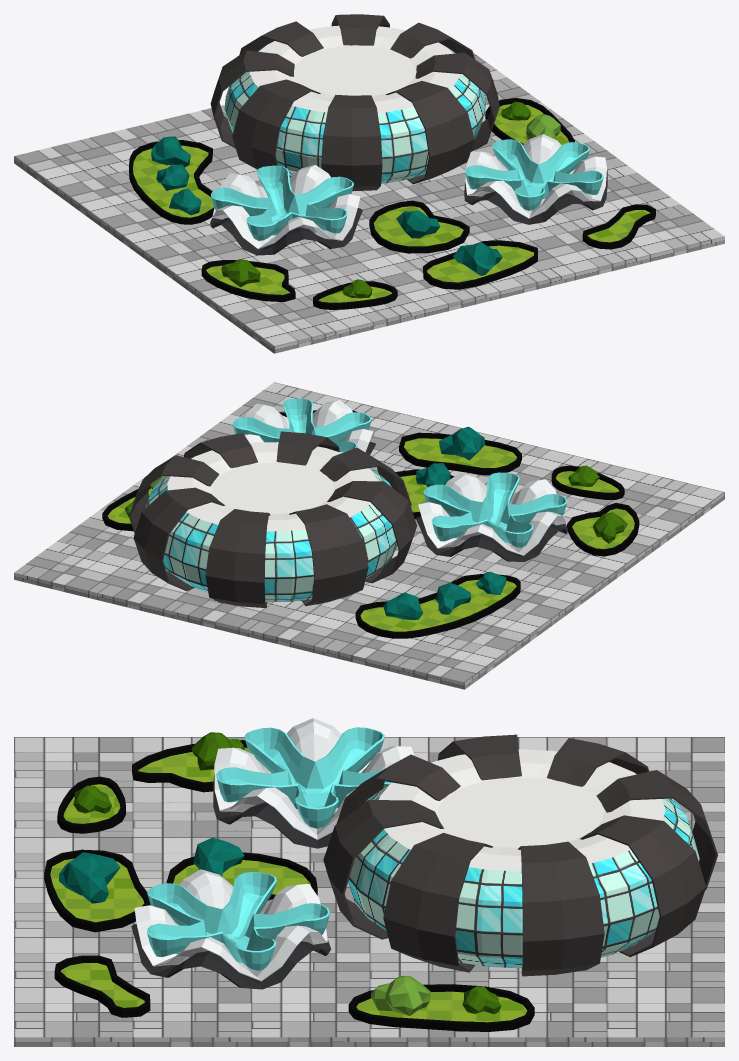
File: D9_Icon_Building.fbx
The picture shows the model from 3 angles, top to bottom: view 1: azimuth 30°, elevation 25°; view 2: azimuth 150°, elevation 25°; view 3: azimuth 270°, elevation 25°; orthographic projection. The views are drawn at different scales.
Visible parts, largest first — view 1: Cube.019; view 2: Cube.019; view 3: Cube.019.
Boxes of the visible parts, <box> form: Cube.019: <box>14,14,724,353</box>; Cube.019: <box>14,382,724,689</box>; Cube.019: <box>14,718,724,1046</box>.
Size of the model in its own units: 4000 by 777 by 4000.
6 materials, 6 textured.
